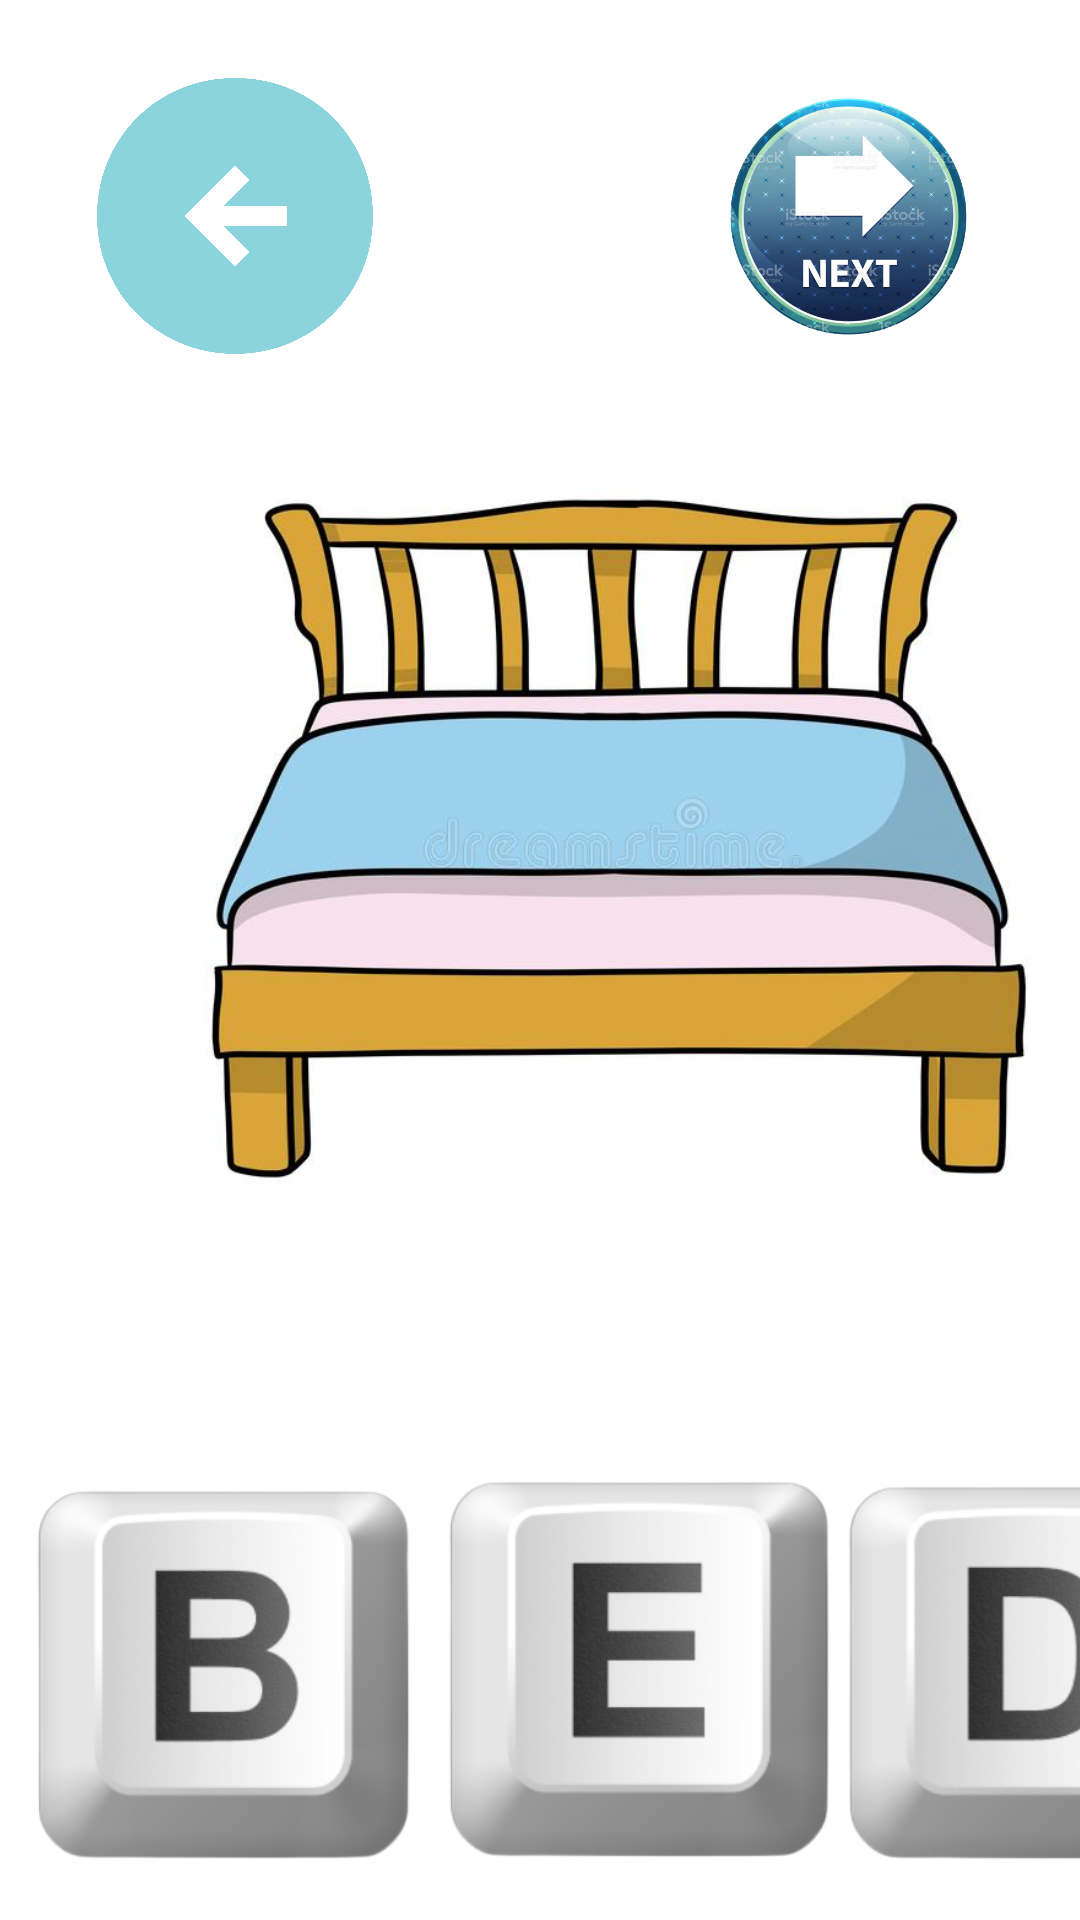

Named icons in this screenshot (1080px x 1920px) and their centers, [x,y]:
back: [235,216]
